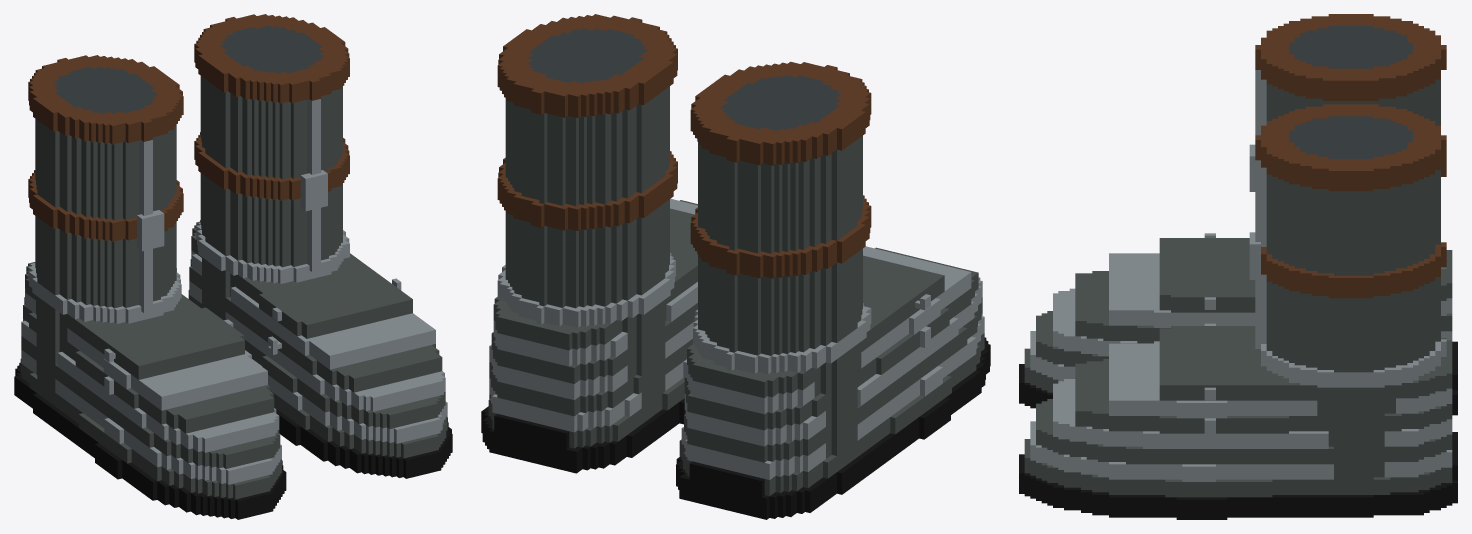
File: armoured_boots.glb
3 renders of one model, left to right at view 1: azimuth 30°, elevation 25°; view 2: azimuth 150°, elevation 25°; view 3: azimuth 270°, elevation 25°, orthographic. The views are drawn at different scales.
Parts seen in each view (by area): view 1: armoured_boots:compound; view 2: armoured_boots:compound; view 3: armoured_boots:compound.
Boxes of the visible parts, x1=… form: armoured_boots:compound: x1=14, y1=14, x2=452, y2=519; armoured_boots:compound: x1=481, y1=14, x2=990, y2=519; armoured_boots:compound: x1=1019, y1=14, x2=1457, y2=519.
Size of the model in its own units: 0.272 by 0.272 by 0.312.
